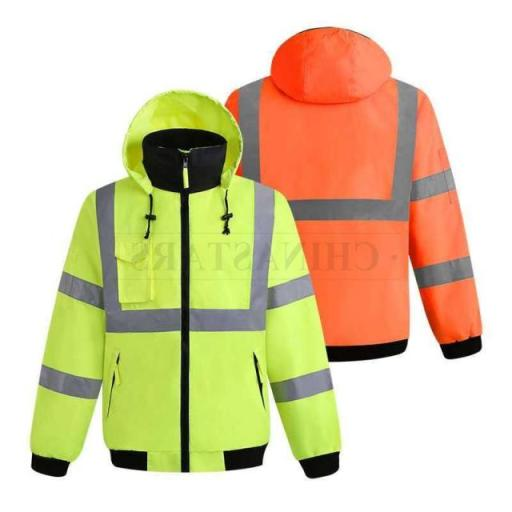helmet: (110, 82, 249, 178)
vest: (18, 174, 358, 484), (220, 64, 492, 370)
